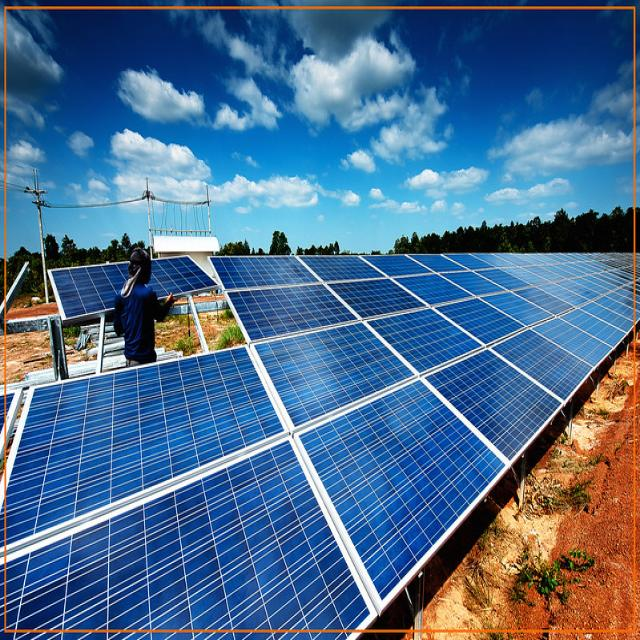no faulty: (0, 253, 631, 638)
